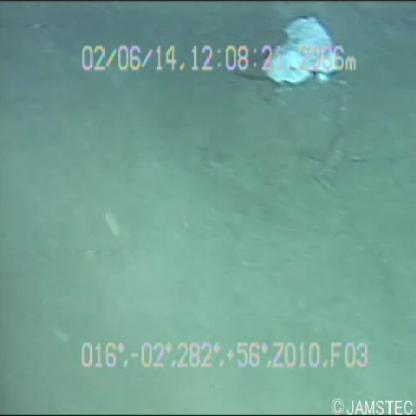Rác: (250, 10, 344, 94)
